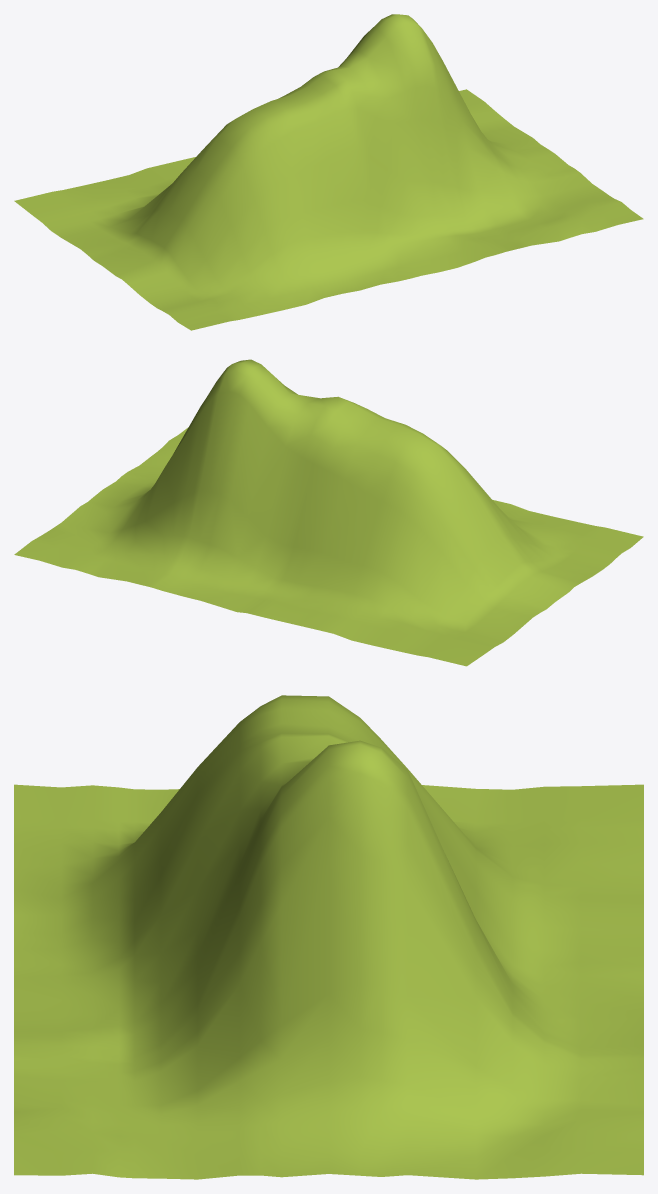
The model's file is collider_coline3.fbx.
3 views of the same model, one above another, from view 1: azimuth 30°, elevation 25°; view 2: azimuth 150°, elevation 25°; view 3: azimuth 270°, elevation 25° (orthographic). The views are drawn at different scales.
Visible parts, largest first — view 1: collider_coline3; view 2: collider_coline3; view 3: collider_coline3.
Part boxes in pixels (left/top/right/bottom): collider_coline3: left=14, top=14, right=643, bottom=330; collider_coline3: left=14, top=359, right=643, bottom=666; collider_coline3: left=14, top=695, right=643, bottom=1179.
Bounding box in the file's own units: 2124 × 781 × 1440.
